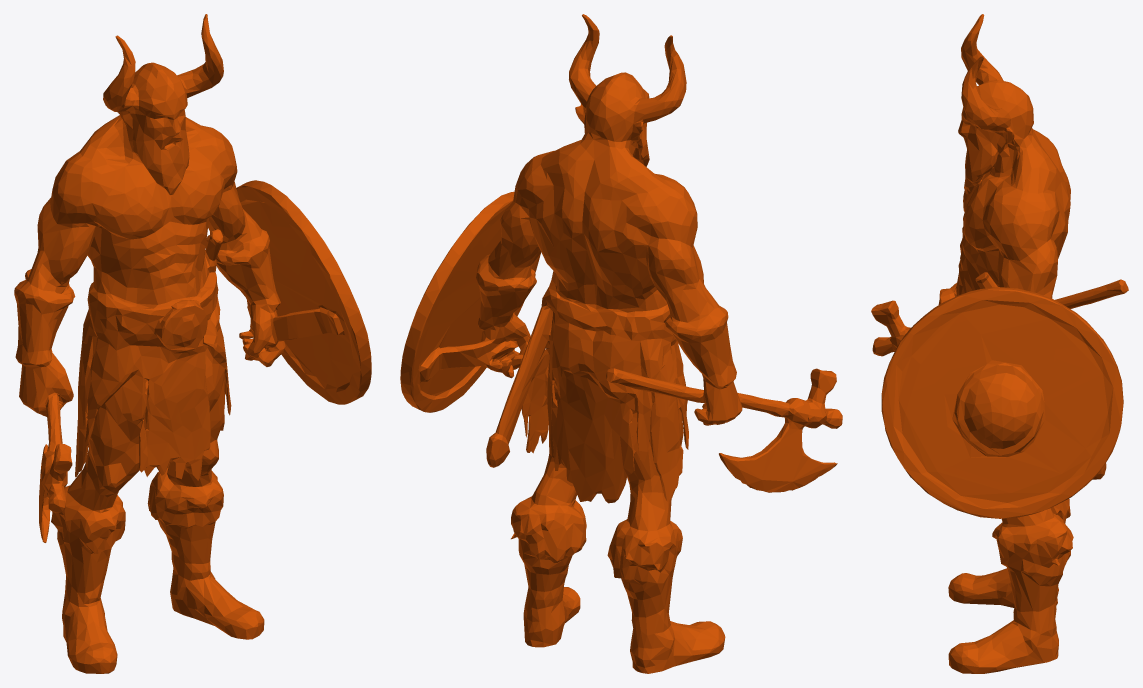
Rendered from viking2.obj.
3 renders of one model, left to right at view 1: azimuth 30°, elevation 25°; view 2: azimuth 150°, elevation 25°; view 3: azimuth 270°, elevation 25°, orthographic. The views are drawn at different scales.
Parts seen in each view (by area): view 1: viking2; view 2: viking2; view 3: viking2.
Boxes of the visible parts, x1=… form: viking2: x1=14, y1=14, x2=371, y2=673; viking2: x1=400, y1=14, x2=842, y2=673; viking2: x1=871, y1=14, x2=1128, y2=673.
Bounding box in the file's own units: 3.29 × 5.67 × 2.22.
